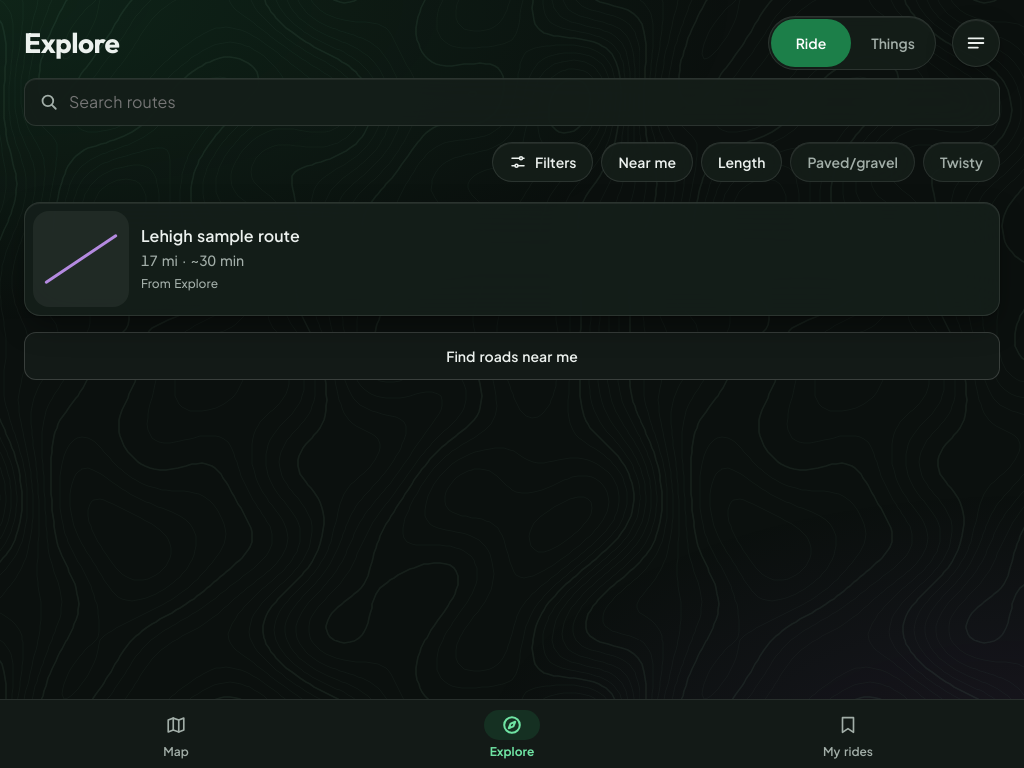
Test: Explore UI › labels the date choices When, on the group as well as on the screen
Step 1. Click the button "Filters" → click(543, 162), box [492, 142, 594, 182]
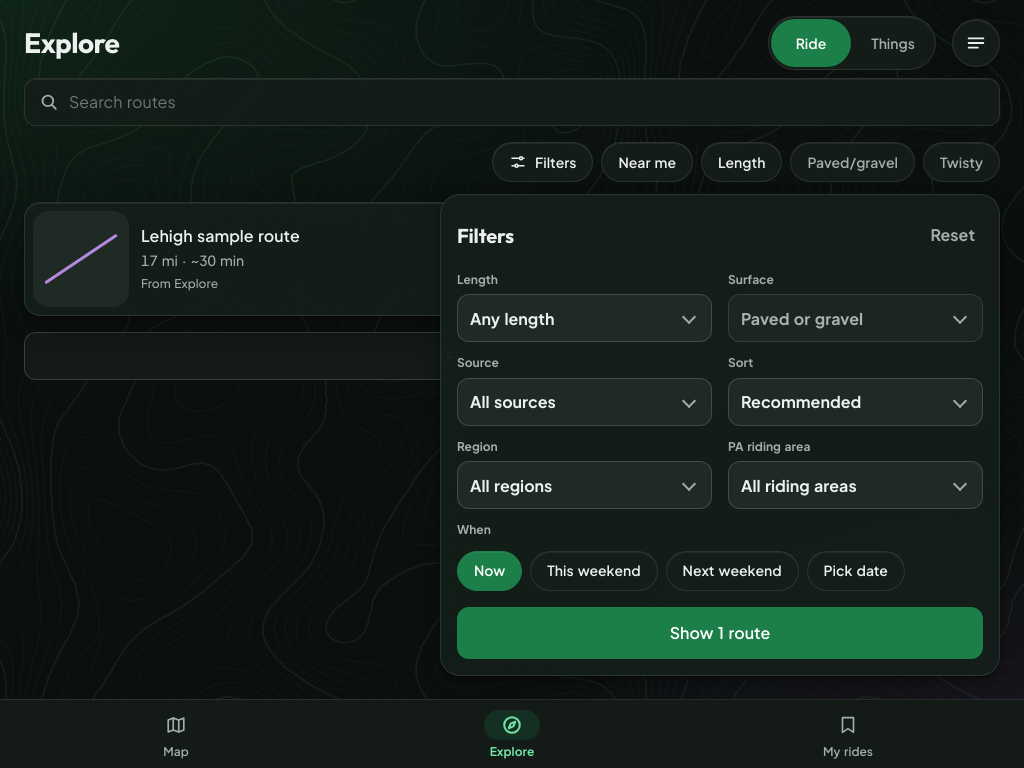
Check: the text with class "og-explore__row-label" reads "When", box [457, 522, 491, 537]
Check: the buttons read "Now", "This weekend", "Next weekend", "Pick date", in this order, box [457, 551, 522, 591]; [530, 551, 658, 591]; [666, 551, 799, 591]; [807, 551, 905, 591]
